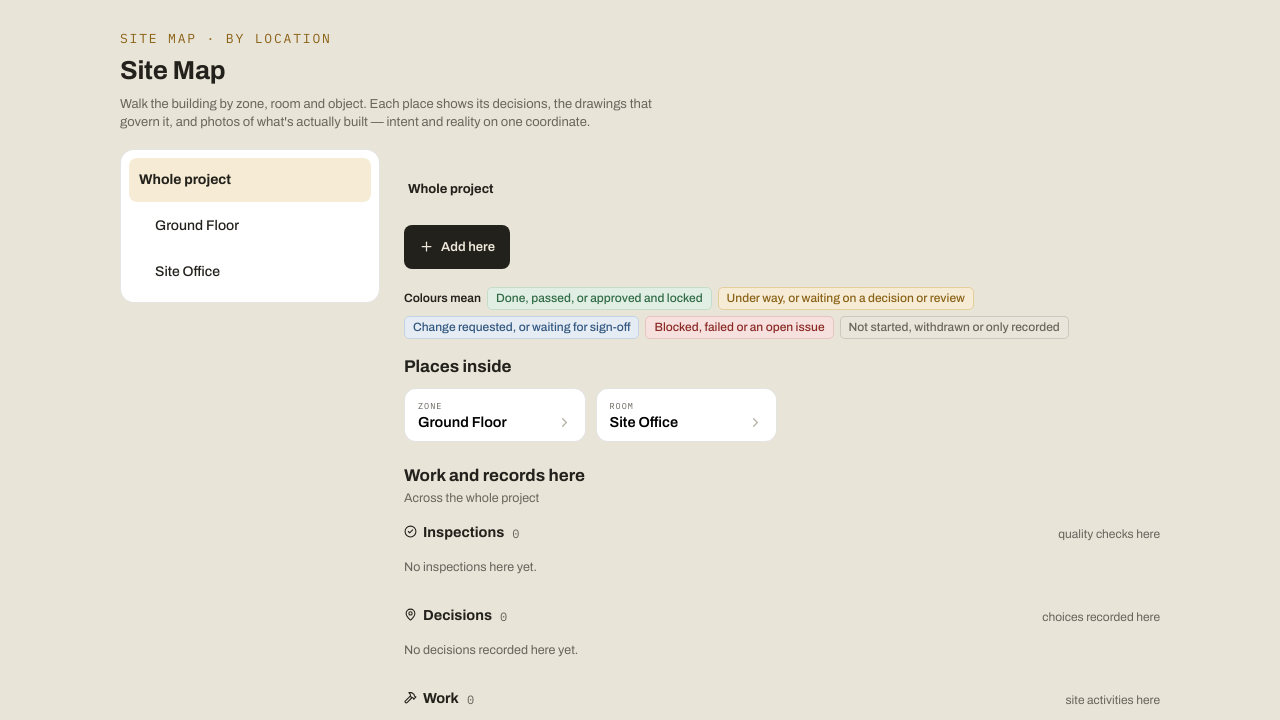
a delivery is only offered when the log that carries it is open (F1) › a submitted log blocks it too, with its own reason
Click the button with test id "place-add": [457, 247] box [404,225,510,269]
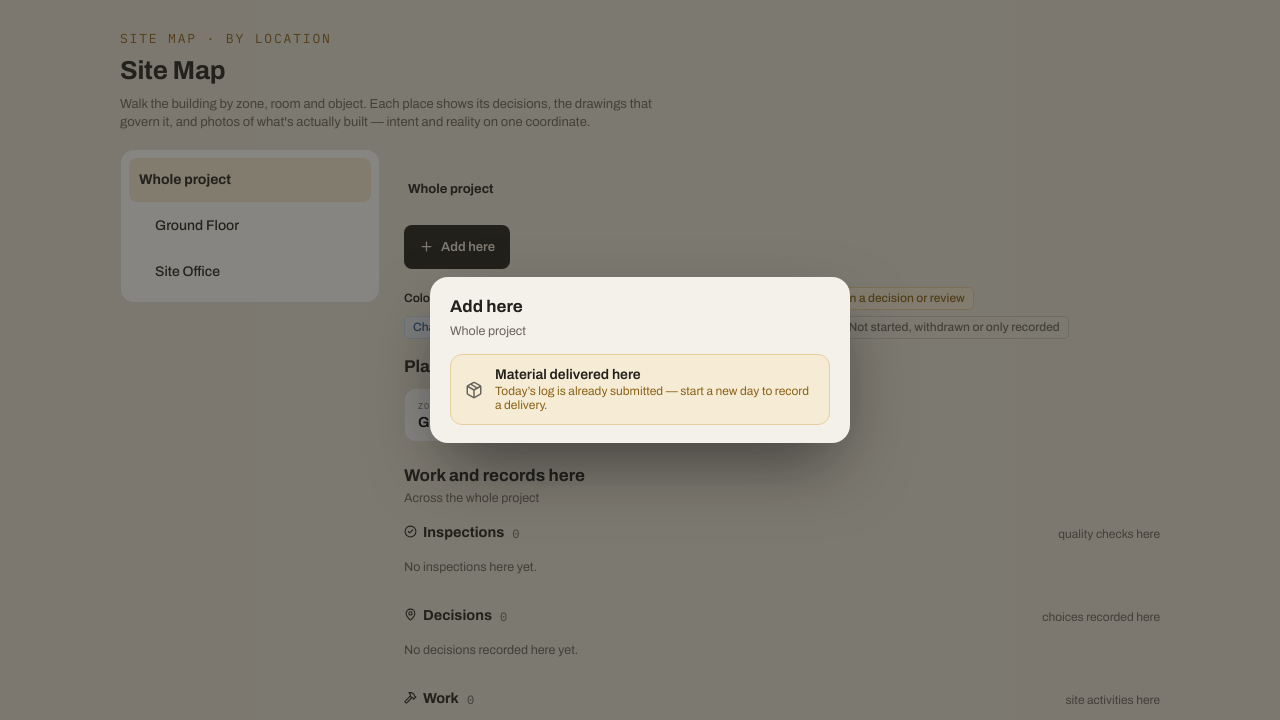
Expected: the button with test id "create-material" is disabled, [450,354,830,425]
Expected: the text with test id "create-material-blocked" shows "already submitted", [495,384,809,412]
